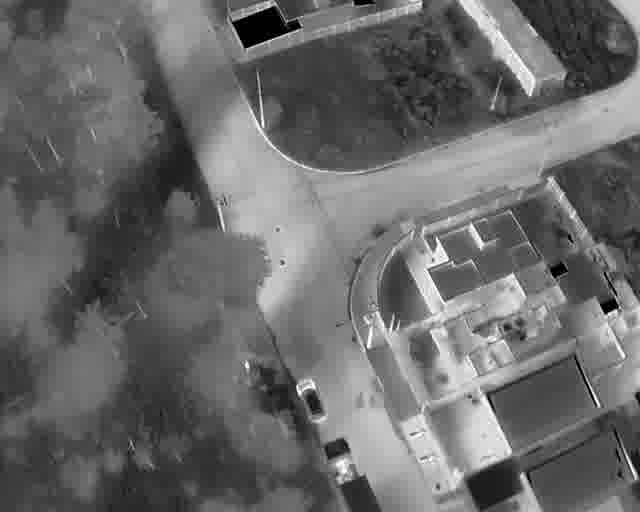car: (296, 377, 327, 422)
truck: (323, 438, 384, 512)
